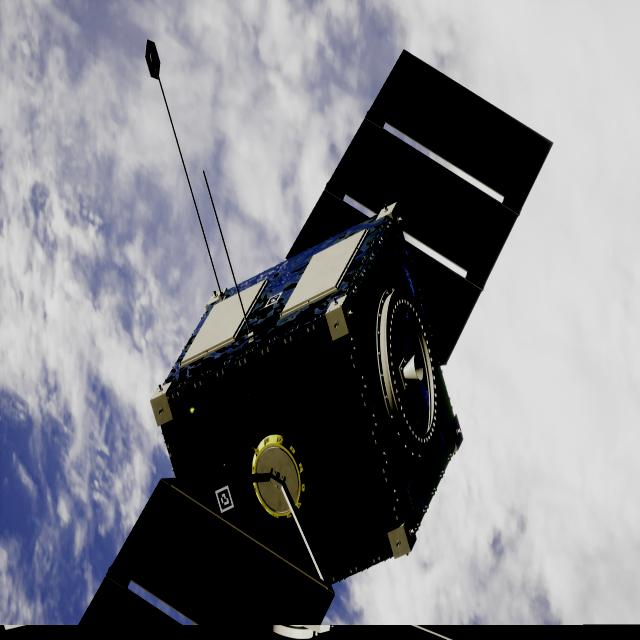medium_debris: (43, 53, 552, 640)
